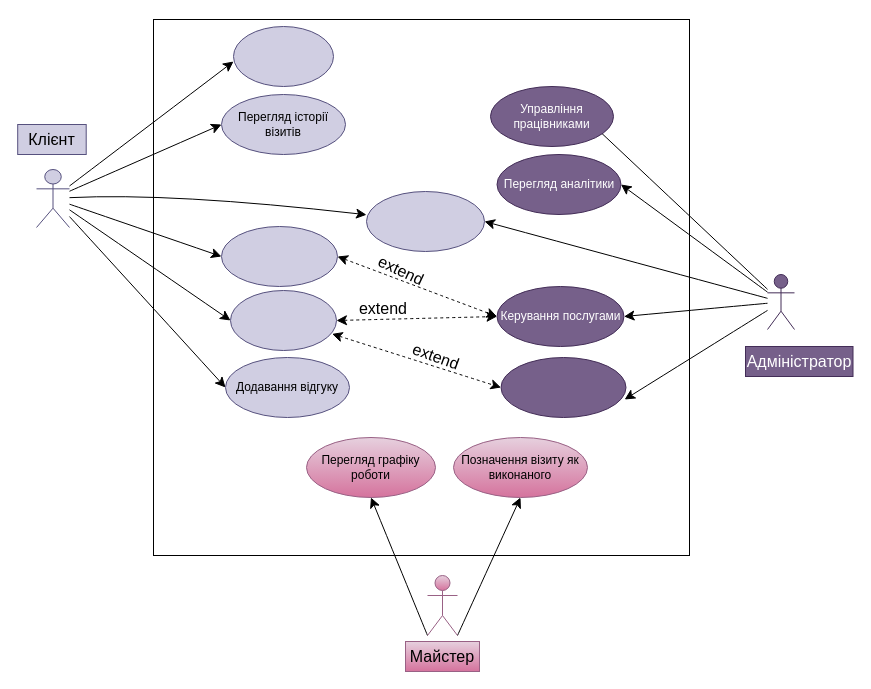
This 871x689 diagram has some shape labels left out. Here are the shapes that lost their labels. From the top down, the box of each, then its label:
(232, 26, 334, 86): Перегляд каталогу послуг
(366, 190, 484, 252): Авторизація в системі
(220, 226, 338, 286): Скасування запису
(230, 290, 336, 350): Запис на послугу
(500, 356, 626, 418): Створення запису вручну
